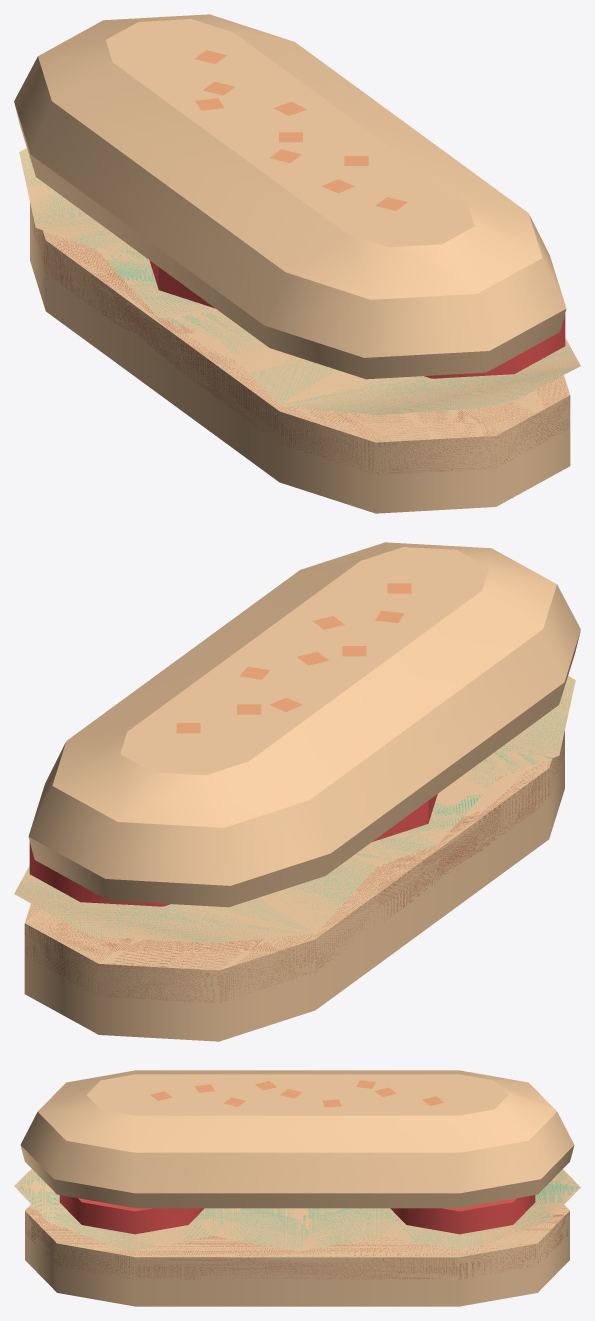
3 views of the same model, one above another, from view 1: azimuth 30°, elevation 25°; view 2: azimuth 150°, elevation 25°; view 3: azimuth 270°, elevation 25° (orthographic). The views are drawn at different scales.
Parts seen in each view (by area): view 1: sub, meat, lettuce, tomaties, Group; view 2: sub, meat, lettuce, tomaties, Group; view 3: sub, meat, lettuce, tomaties.
Part boxes in pixels (x1=…): sub: x1=14, y1=14, x2=570, y2=513; meat: x1=30, y1=203, x2=570, y2=475; lettuce: x1=19, y1=148, x2=580, y2=415; tomaties: x1=424, y1=314, x2=565, y2=378; Group: x1=149, y1=260, x2=214, y2=308; sub: x1=24, y1=542, x2=580, y2=1041; meat: x1=24, y1=731, x2=564, y2=1003; lettuce: x1=14, y1=676, x2=575, y2=943; tomaties: x1=29, y1=842, x2=170, y2=906; Group: x1=372, y1=794, x2=437, y2=841; sub: x1=20, y1=1070, x2=574, y2=1306; meat: x1=25, y1=1204, x2=569, y2=1279; lettuce: x1=14, y1=1169, x2=580, y2=1251; tomaties: x1=59, y1=1195, x2=535, y2=1234.
Bounding box in the file's own units: 0.2827 × 0.2125 × 0.6756.
